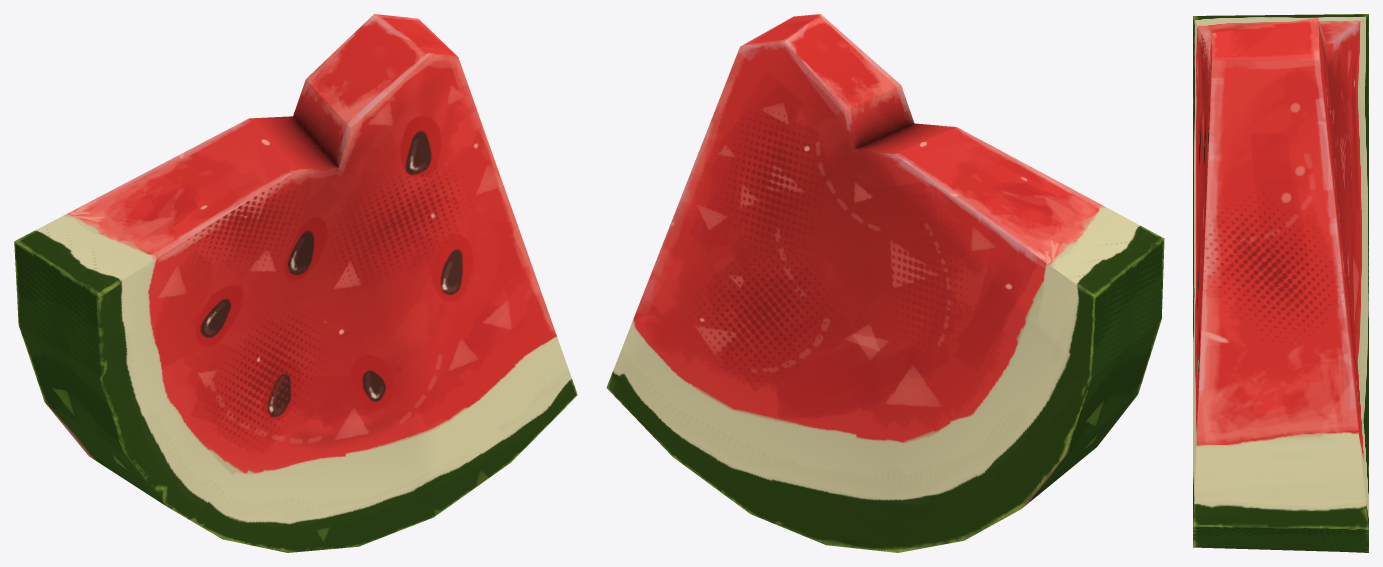
File: watermelon.glb
3 views of the same model, side by side, from view 1: azimuth 30°, elevation 25°; view 2: azimuth 150°, elevation 25°; view 3: azimuth 270°, elevation 25° (orthographic). The views are drawn at different scales.
Visible parts, largest first — view 1: Cube; view 2: Cube; view 3: Cube.
Boxes of the visible parts, left/top/right/bottom form: Cube: left=14, top=14, right=577, bottom=552; Cube: left=606, top=14, right=1164, bottom=552; Cube: left=1193, top=14, right=1368, bottom=552.
Size of the model in its own units: 2.62 by 2.42 by 0.7089.
1 material, 1 textured.
